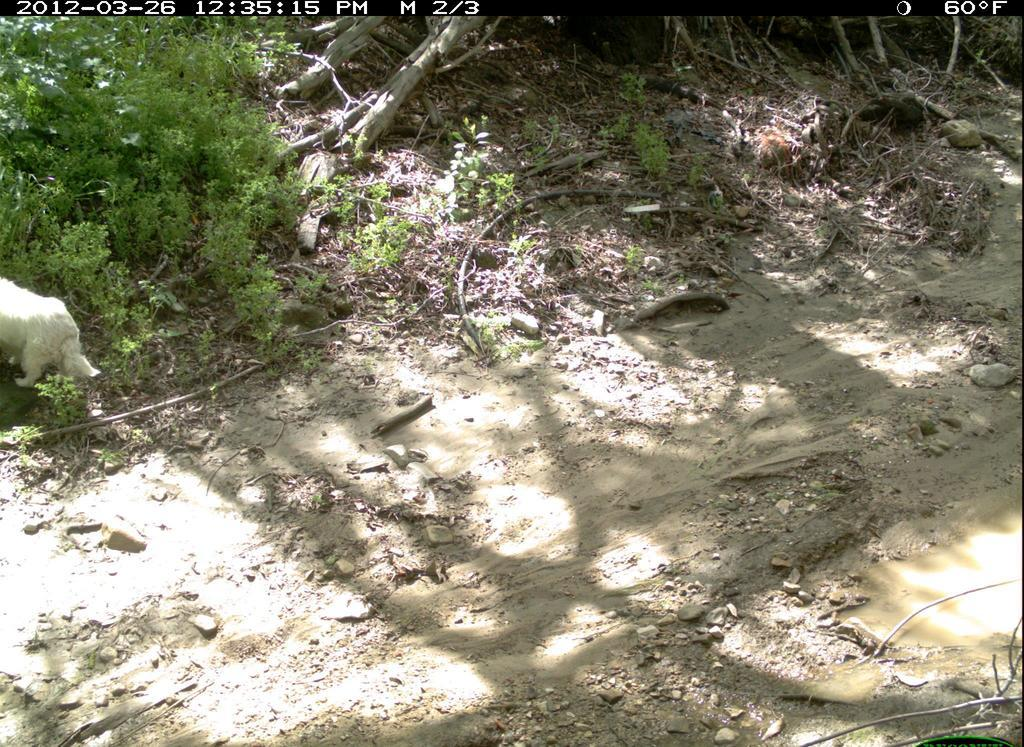dog: (2, 272, 105, 393)
